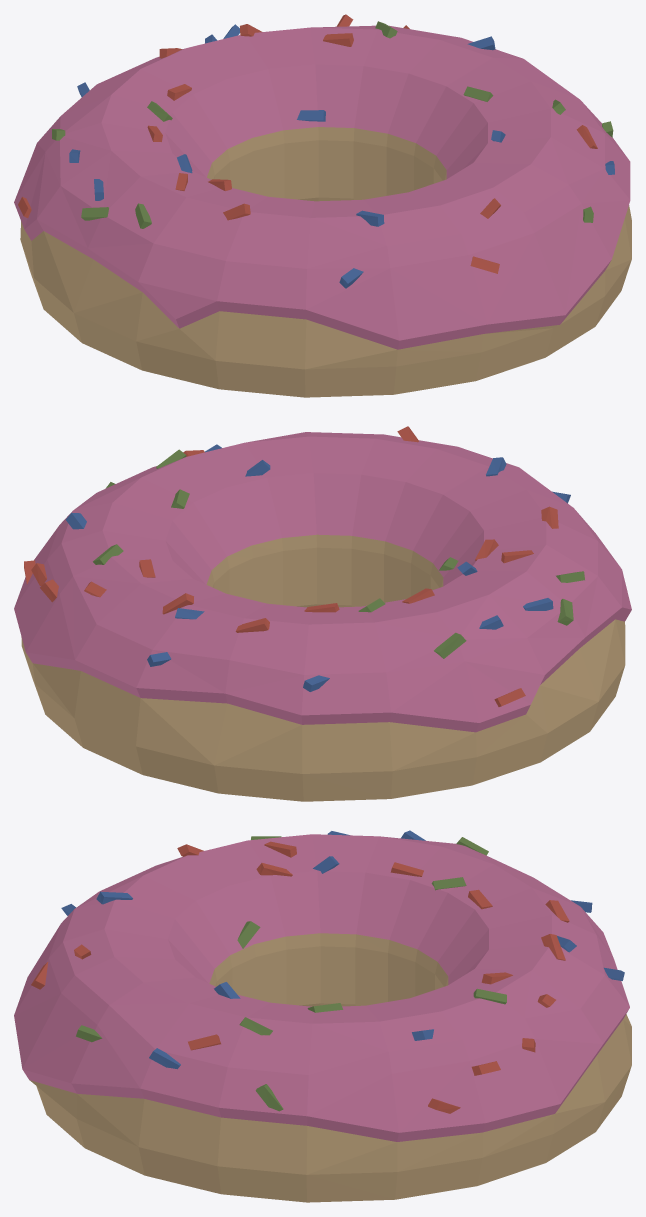
Rendered from Donut1.glb.
3 views of the same model, one above another, from view 1: azimuth 30°, elevation 25°; view 2: azimuth 150°, elevation 25°; view 3: azimuth 270°, elevation 25° (orthographic).
Parts seen in each view (by area): view 1: Donut1; view 2: Donut1; view 3: Donut1.
Boxes of the visible parts, x1,y1,x2,y2 form: Donut1: (14,14,631,397); Donut1: (14,426,631,801); Donut1: (14,830,631,1202).
Size of the model in its own units: 0.8591 by 0.2914 by 0.8698.
1 material, 1 textured.
